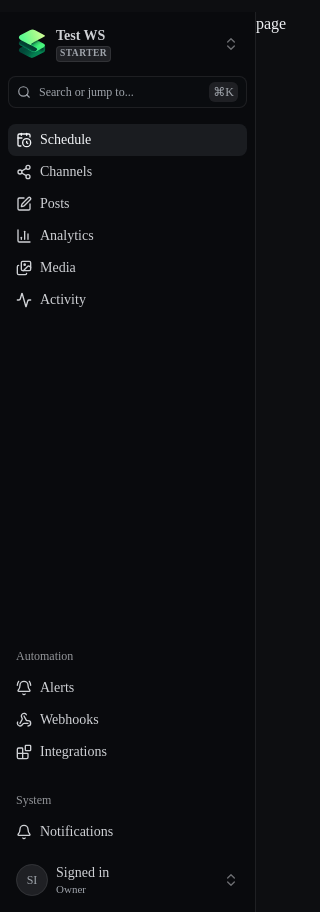
Scenario: user menu › paying for Plus: Upgrade to the next plan, Pro
Click the button with test id "user-menu-trigger": (128, 880) [8, 856, 247, 904]
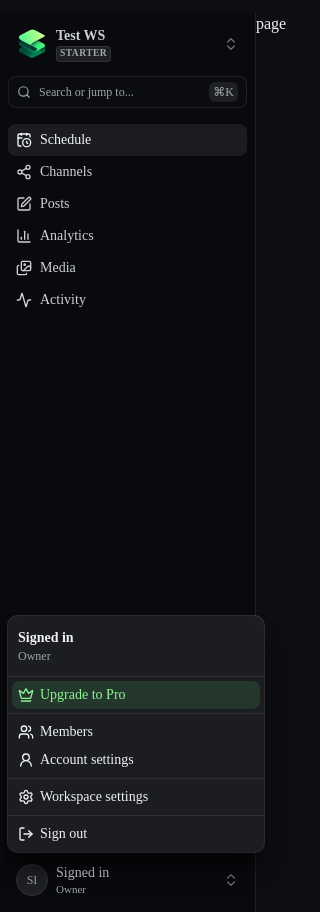
expect the menu item with test id "menu-upgrade" reads "Upgrade to Pro": met, box [12, 681, 260, 709]
